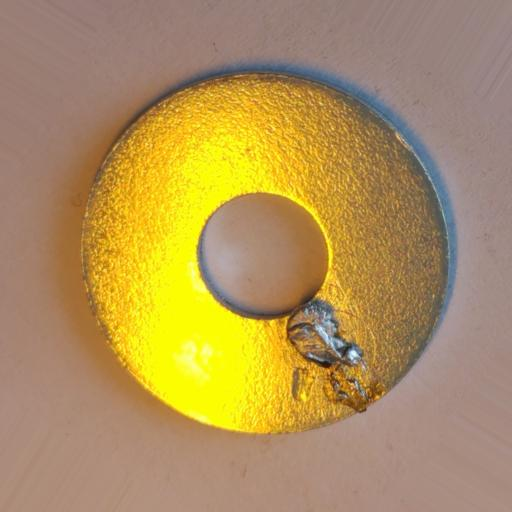excess_material: (285, 296, 365, 370)
